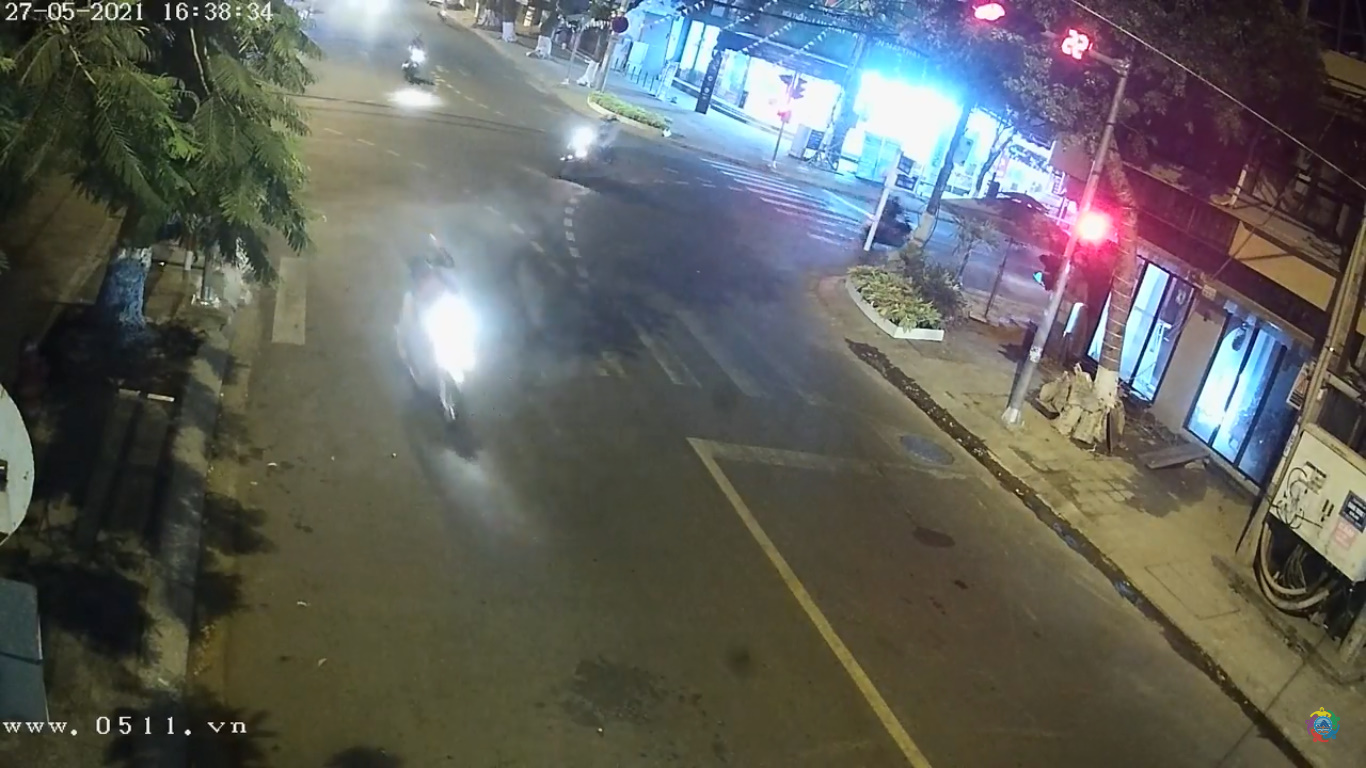motorbike: (382, 245, 496, 451)
